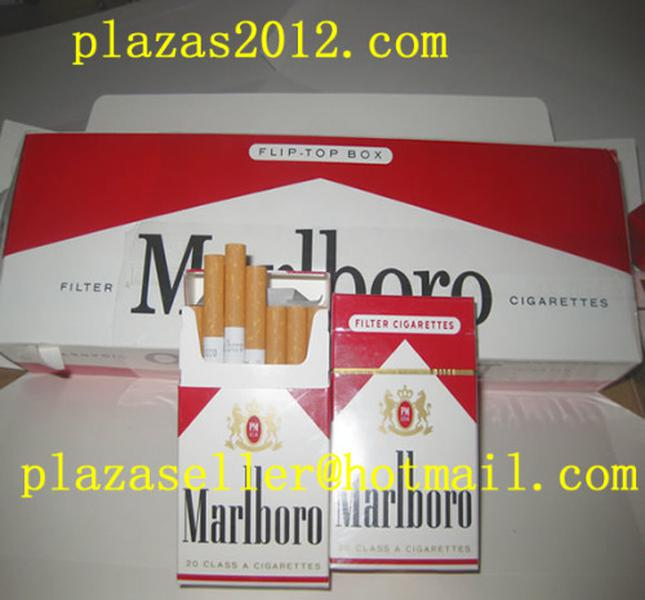marlboro_red: (335, 297, 480, 574), (181, 341, 329, 589)
